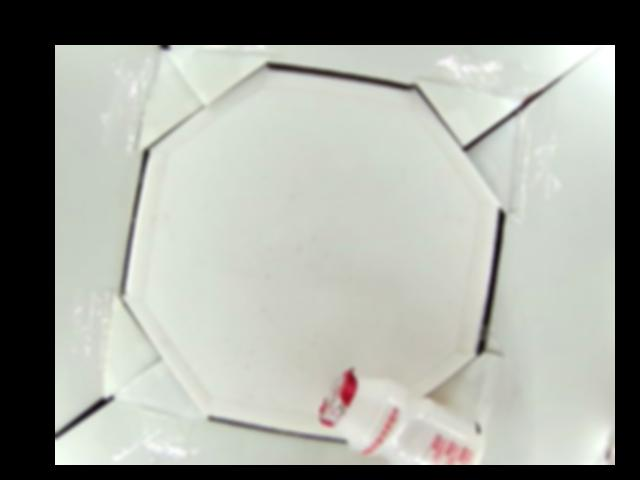Bottle: (319, 367, 486, 465)
